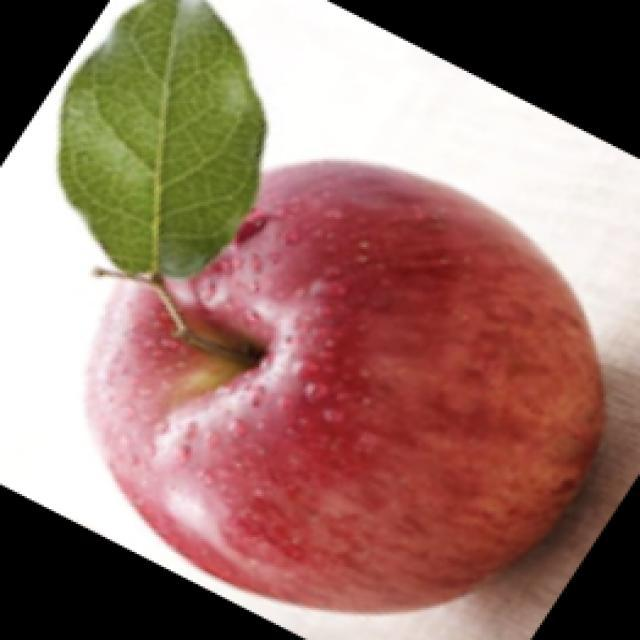Fresh Apple: (81, 155, 612, 622)
